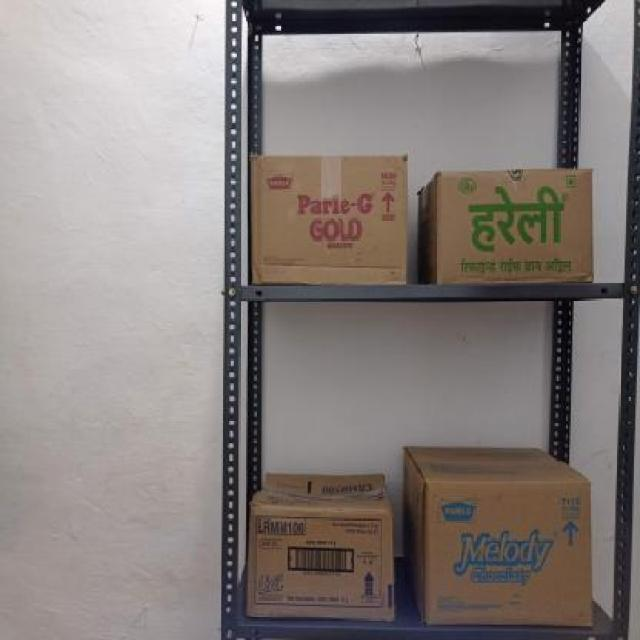box: (424, 476, 598, 627), (248, 154, 408, 283), (436, 170, 596, 284), (241, 507, 394, 616)
